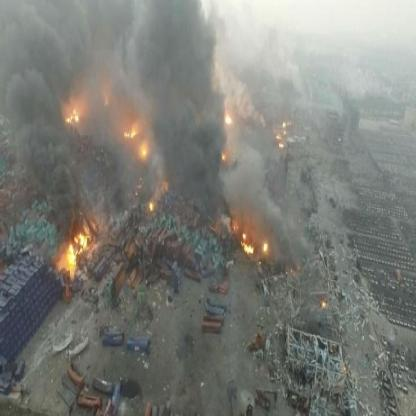fire: (62, 225, 94, 273), (59, 98, 83, 129), (236, 222, 254, 260), (133, 134, 153, 162), (117, 115, 139, 140), (274, 117, 289, 152), (259, 230, 271, 254), (216, 140, 228, 160), (143, 190, 154, 210), (220, 110, 232, 127), (320, 296, 329, 309)
smoke: (130, 1, 220, 207), (0, 1, 80, 209), (227, 7, 298, 78), (81, 5, 125, 107), (226, 66, 260, 130), (236, 150, 266, 215)
